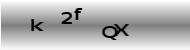2: (60, 11, 73, 26)
Q: (100, 25, 118, 40)
X: (112, 22, 130, 37)
f: (74, 6, 83, 21)
k: (29, 18, 45, 32)
